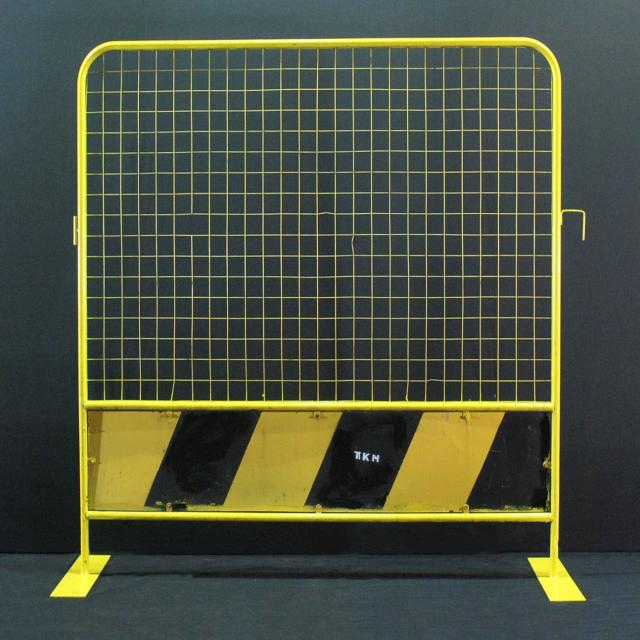cone: (56, 34, 586, 602)
